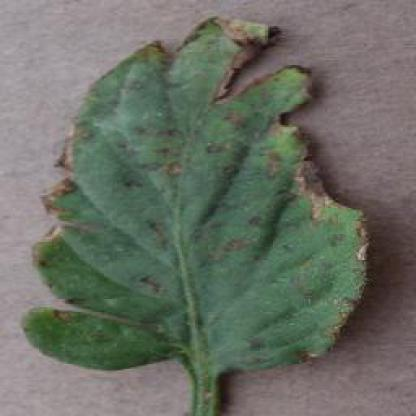bad leaf: (209, 36, 333, 220), (40, 110, 93, 248)
